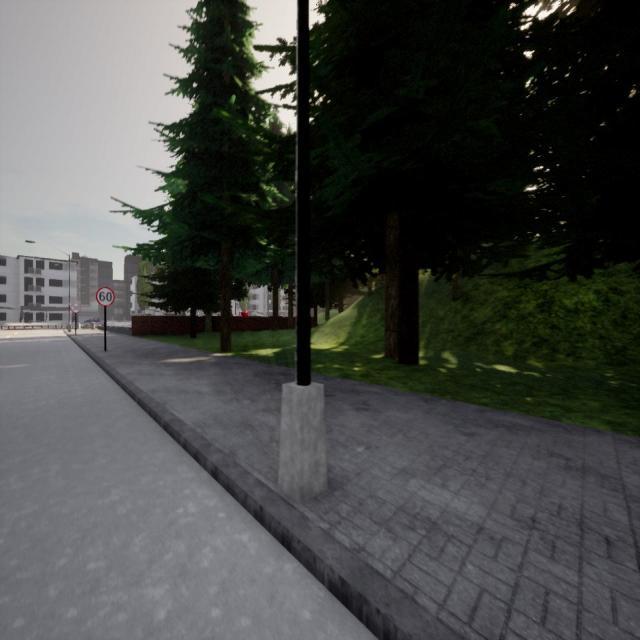Traffic_Signs: (96, 286, 115, 306), (70, 302, 80, 314)
Vehicle: (84, 317, 100, 322)
